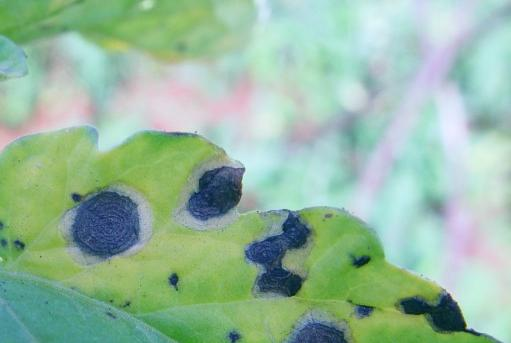Tomato Early blight leaf: (0, 124, 511, 343), (0, 0, 107, 43)
